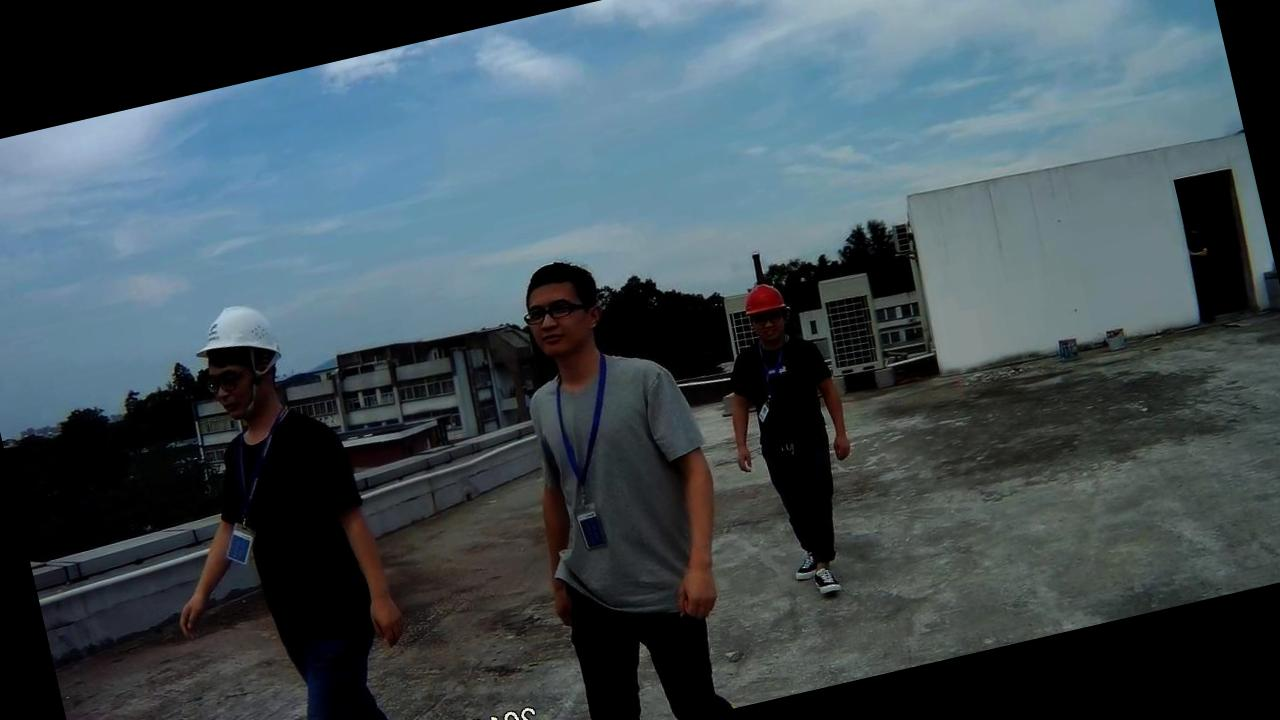helmet: (195, 300, 283, 368), (736, 278, 790, 326)
no_vest: (510, 346, 714, 600), (213, 412, 369, 652), (720, 322, 846, 474)
person: (467, 230, 759, 720), (176, 280, 422, 720), (684, 260, 902, 642)
